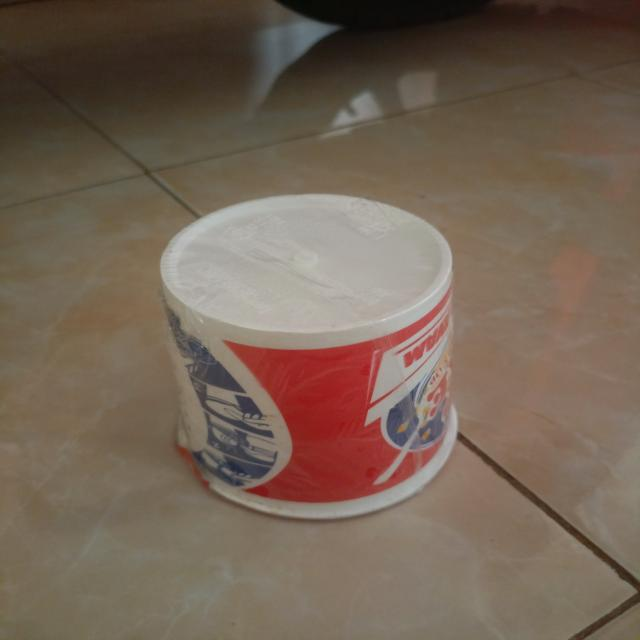popmie-rasa-ayam: (161, 195, 458, 522)
